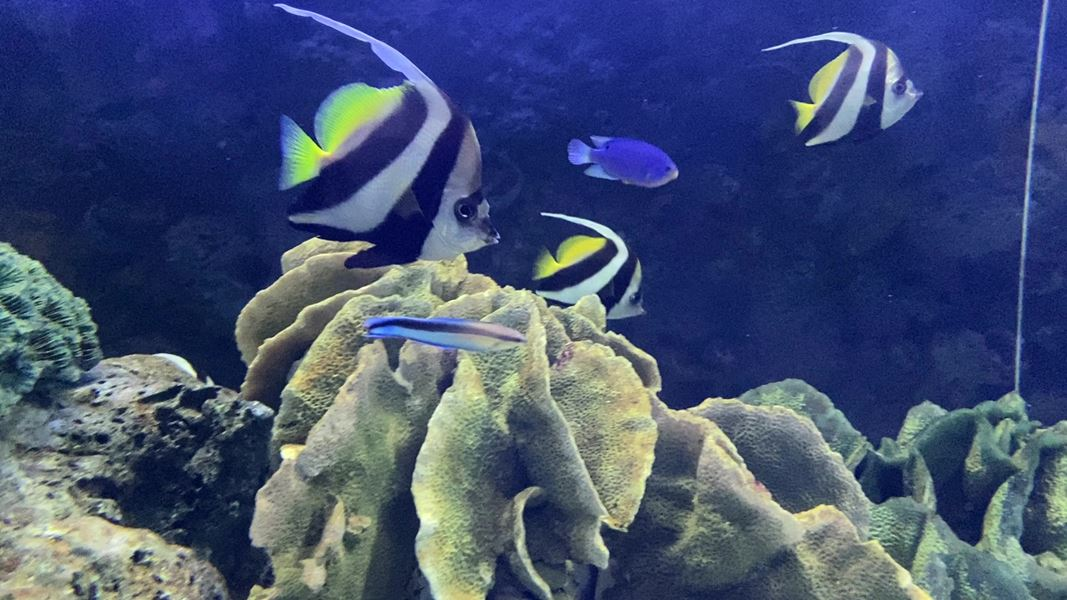Bluesteak cleaner wrasse: (357, 303, 531, 362)
